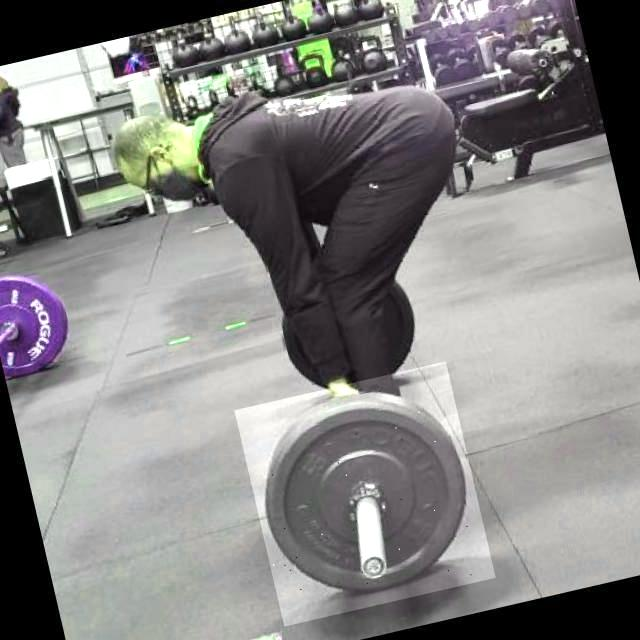barbell: (235, 362, 495, 627)
